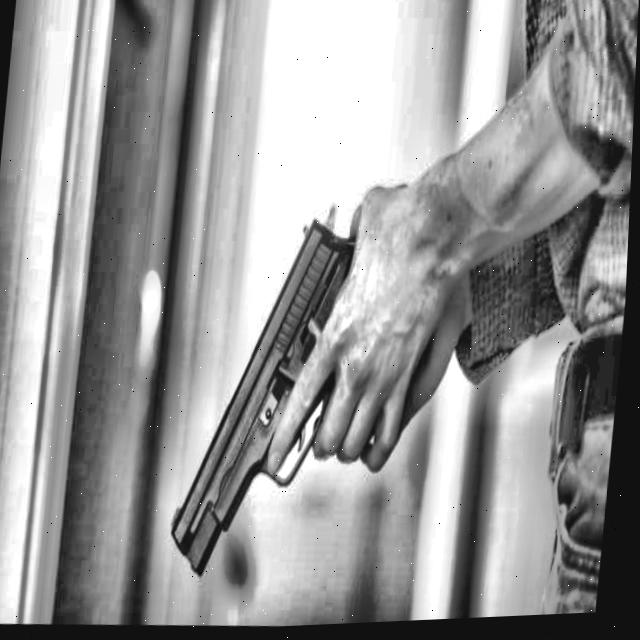pistol: (153, 195, 445, 591)
